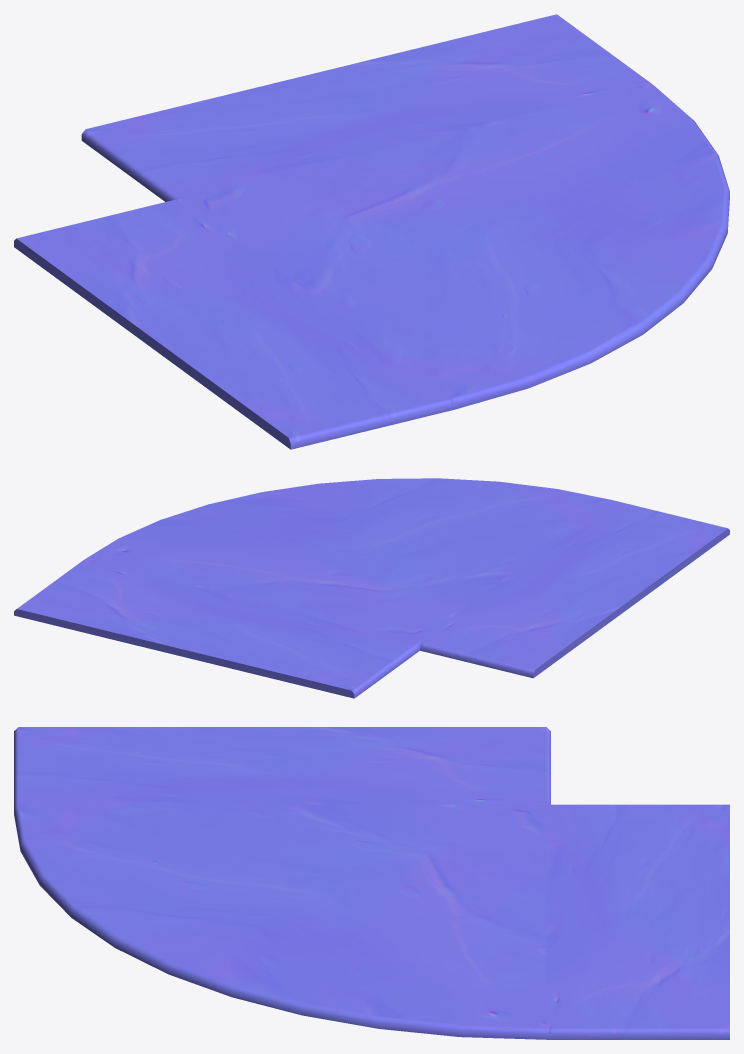
Rendered from sm_road_turn_02.fbx.
3 views of the same model, one above another, from view 1: azimuth 30°, elevation 25°; view 2: azimuth 150°, elevation 25°; view 3: azimuth 270°, elevation 25° (orthographic). The views are drawn at different scales.
Parts seen in each view (by area): view 1: sm_road_turn_02; view 2: sm_road_turn_02; view 3: sm_road_turn_02.
Part boxes in pixels (x1,y1,x2,y2): sm_road_turn_02: (14,14,729,449); sm_road_turn_02: (14,478,729,698); sm_road_turn_02: (14,727,729,1039).
Bounding box in the file's own units: 1600 × 24.87 × 1600.
1 material, 1 textured.
